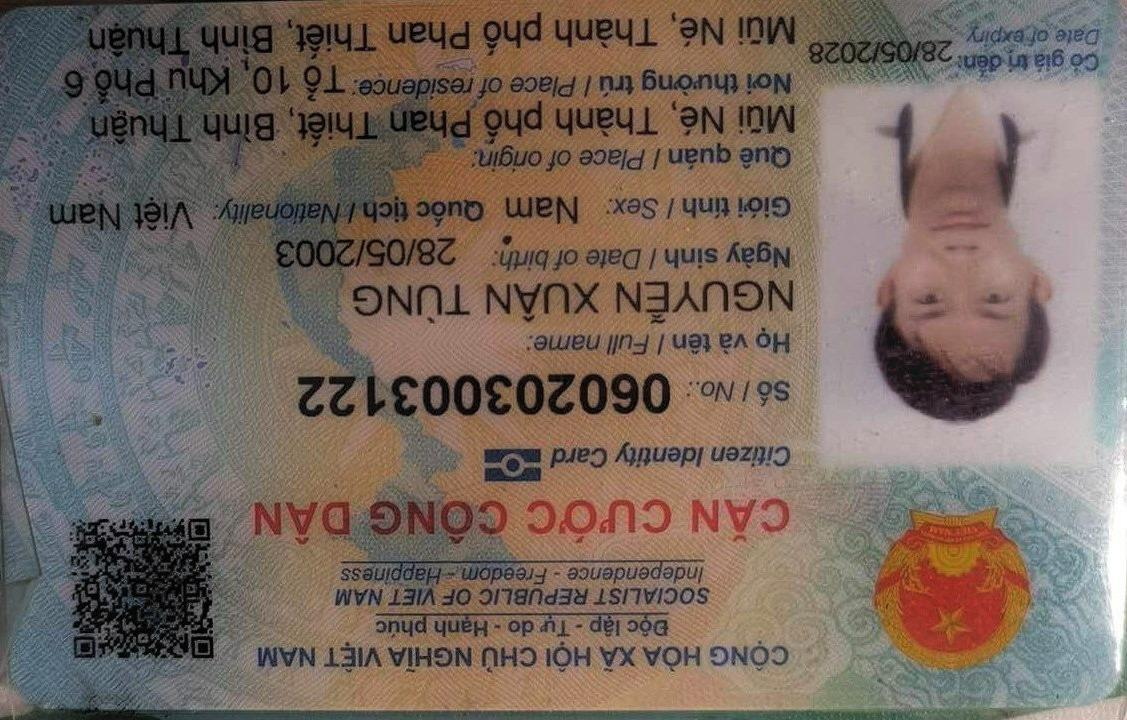ID: (443, 290, 853, 355)
birth: (659, 446, 865, 495)
name: (323, 395, 790, 445)
place: (326, 568, 1049, 620)
residence: (321, 653, 1061, 713), (776, 615, 1070, 662)
